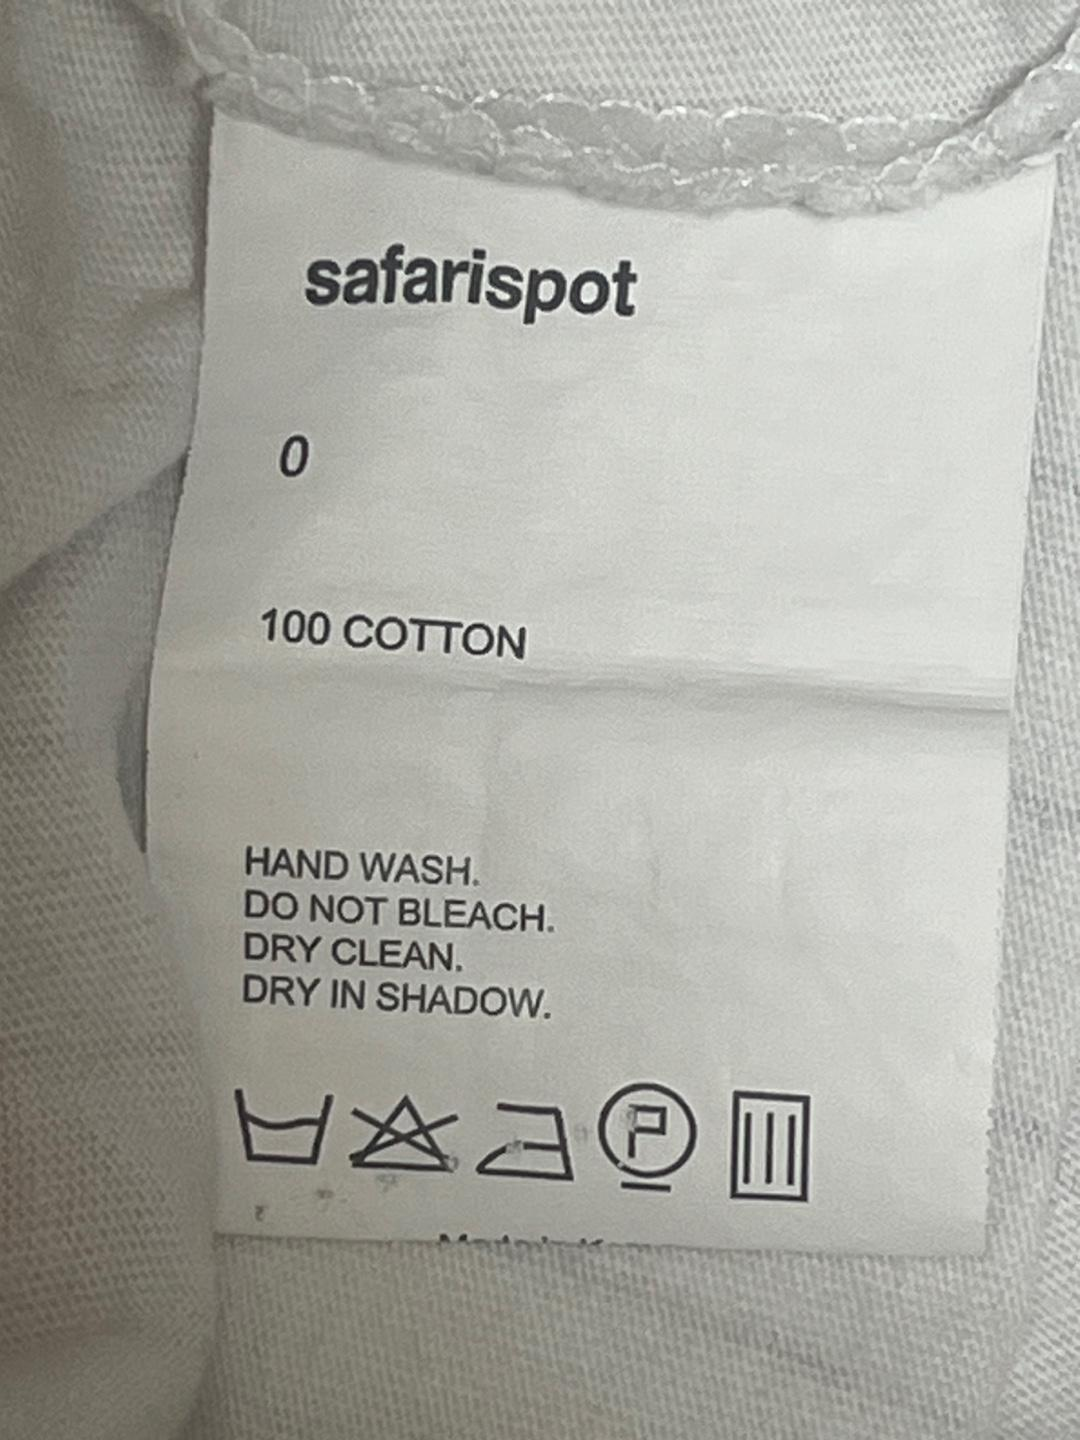DN_bleach: (344, 1087, 470, 1184)
drip_dry: (720, 1076, 826, 1212)
dry_clean_petrol_only: (592, 1070, 707, 1188)
iron: (473, 1084, 587, 1184)
machine_wash: (220, 1078, 341, 1174)
